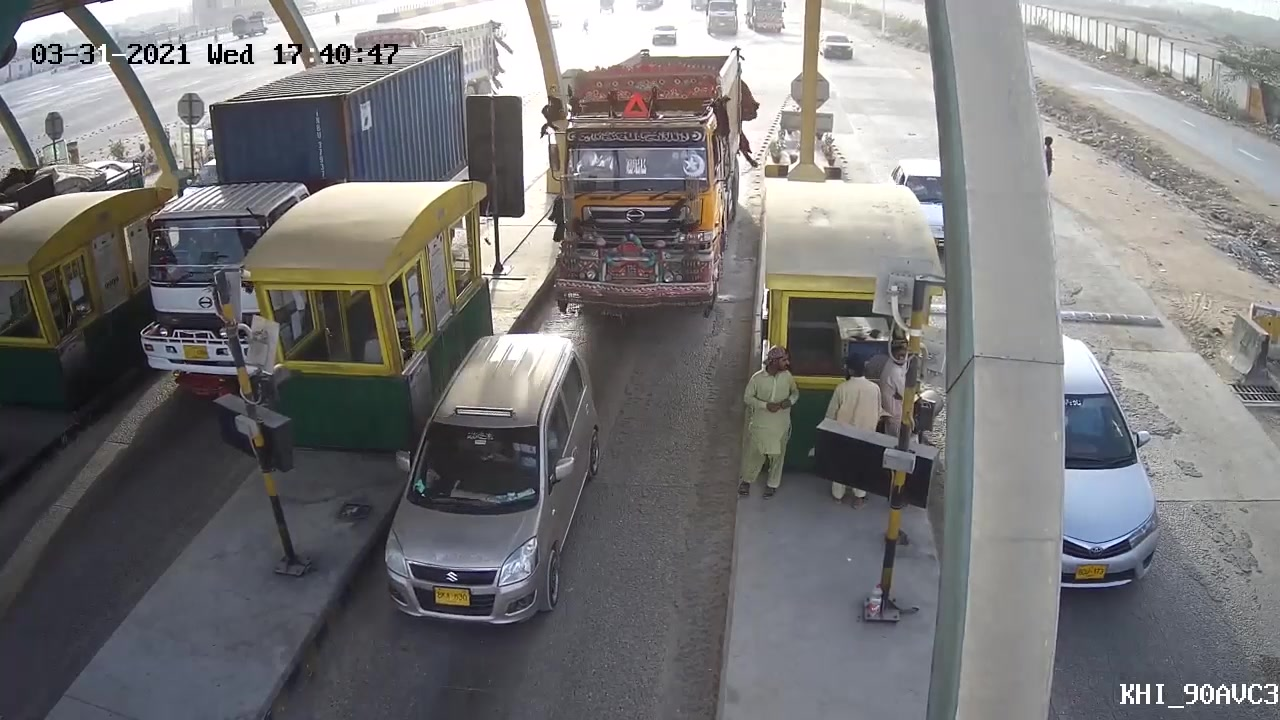F1: (381, 334, 600, 626)
F5: (539, 39, 752, 321)
